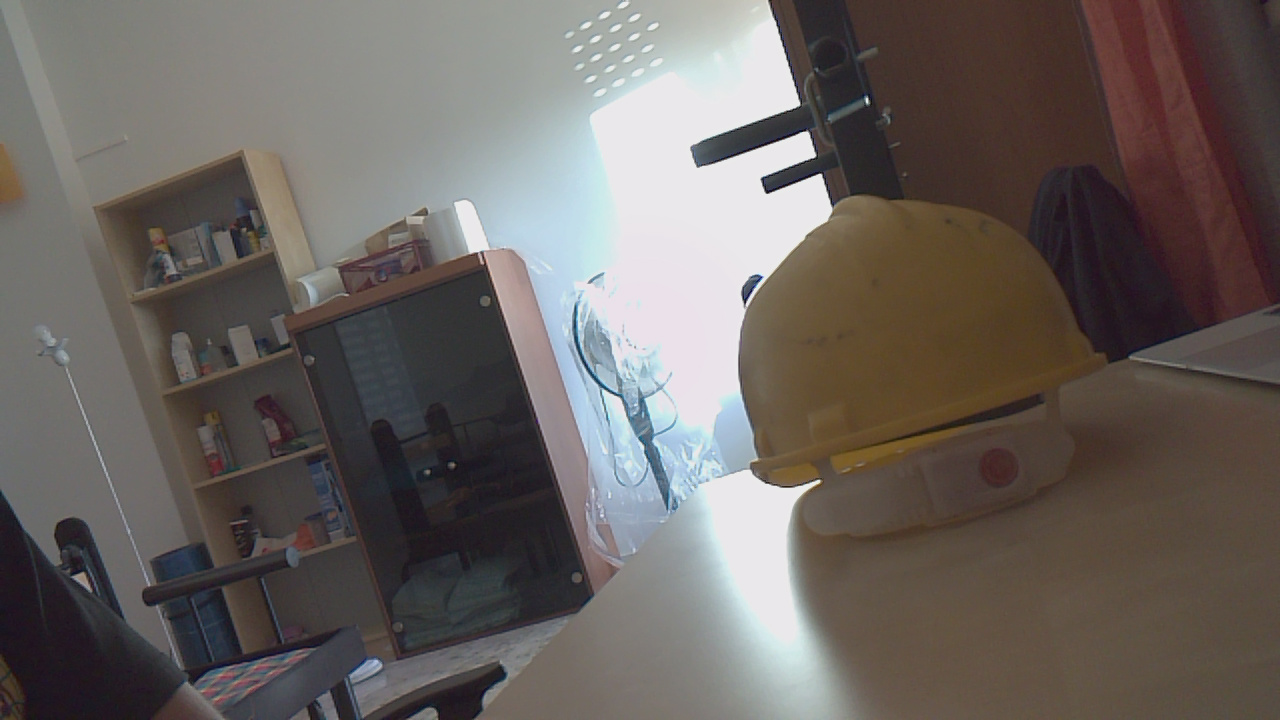Helmet: (667, 193, 1048, 550)
